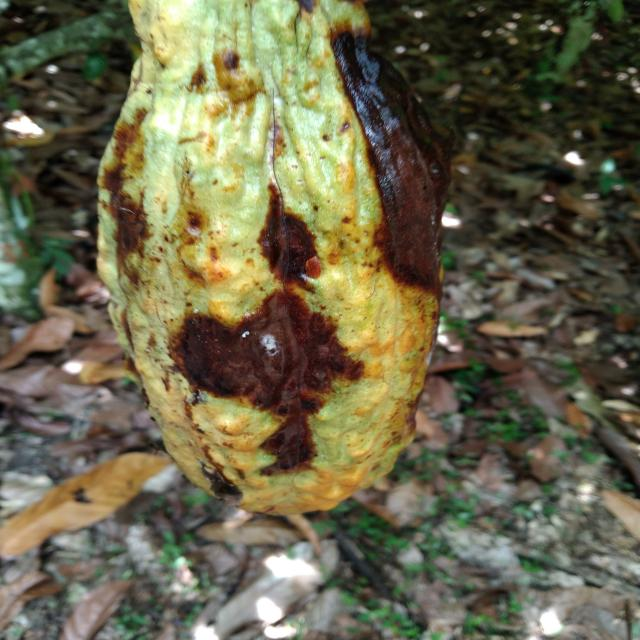Monilia: (97, 0, 423, 529)
